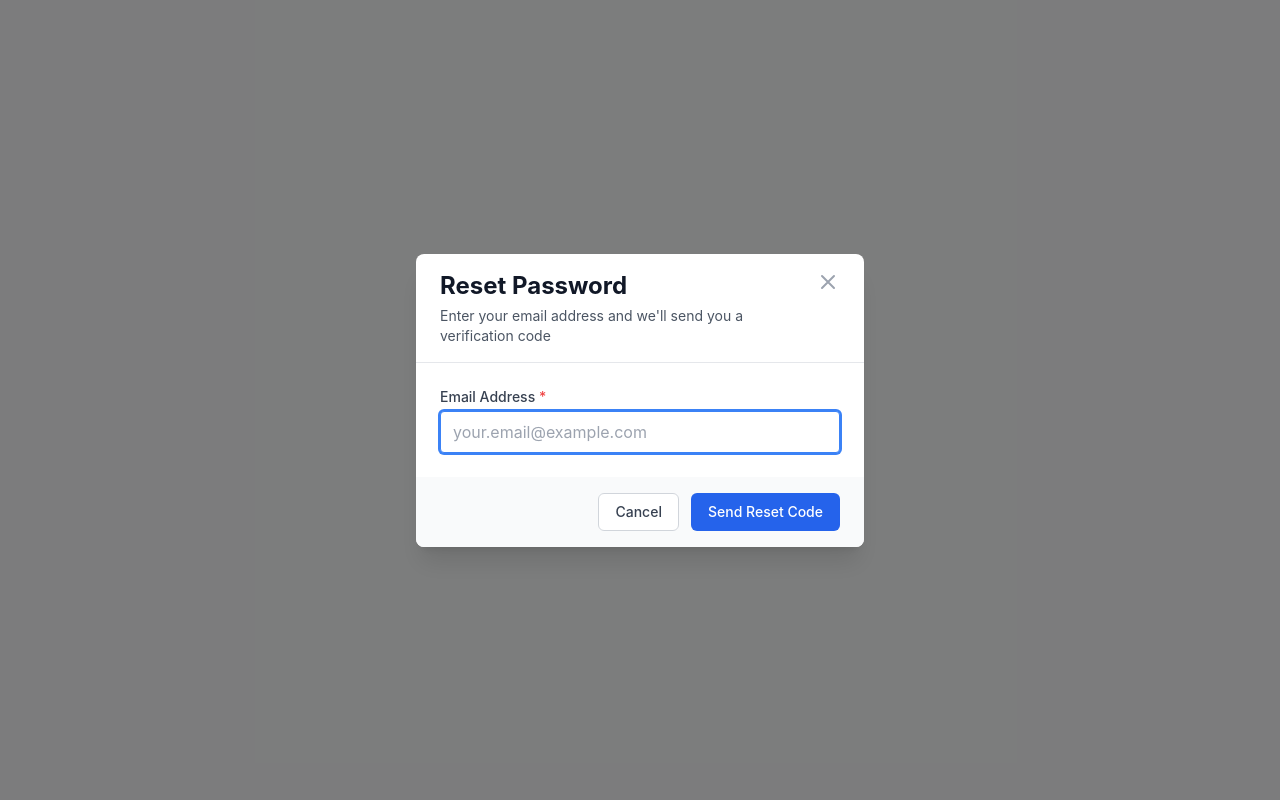
Authentication Error Messages › Password Reset Error Messages › should display specific error for too many reset attempts
// Fill in email field
Type "user@example.com" into the field labelled "Email Address *". click: (640, 432)
box: [440,410,840,452]
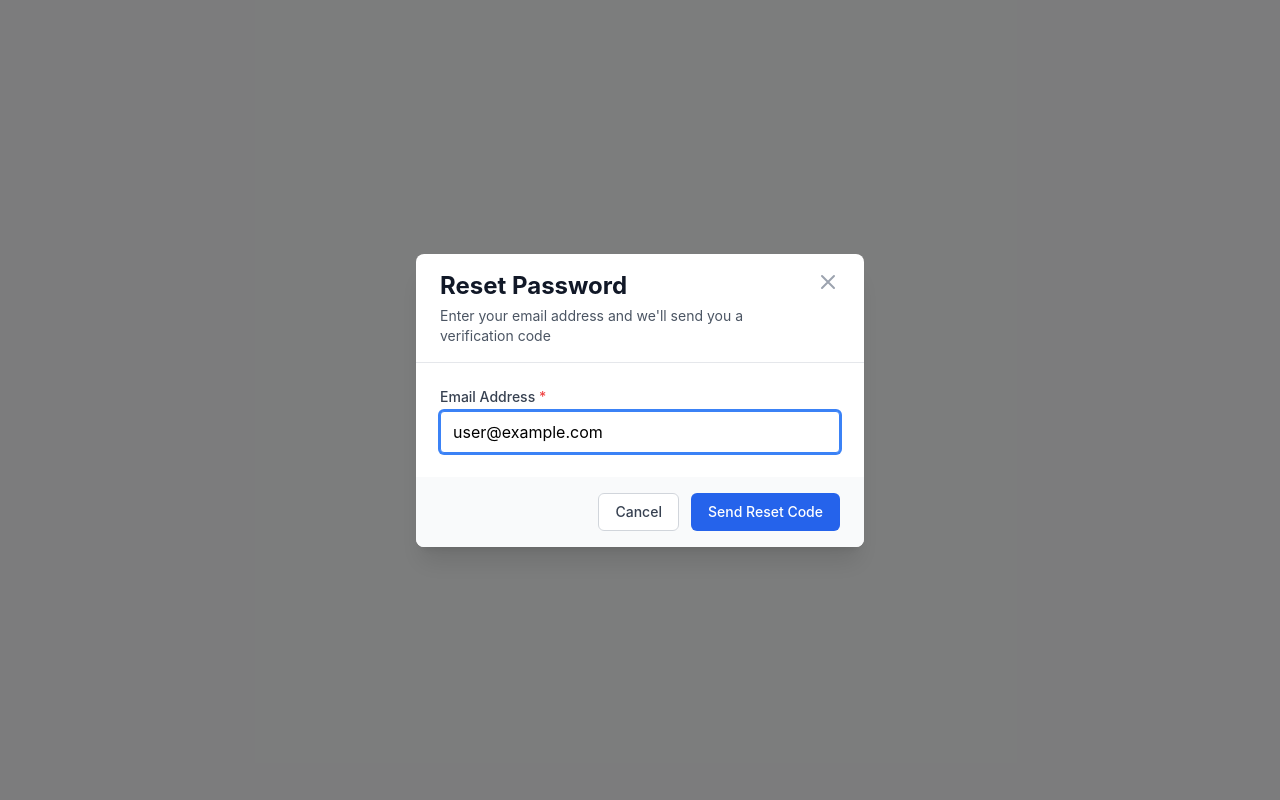
// Submit form
Click the button "Send Reset Code". click: (766, 512)
box: [691,492,840,530]
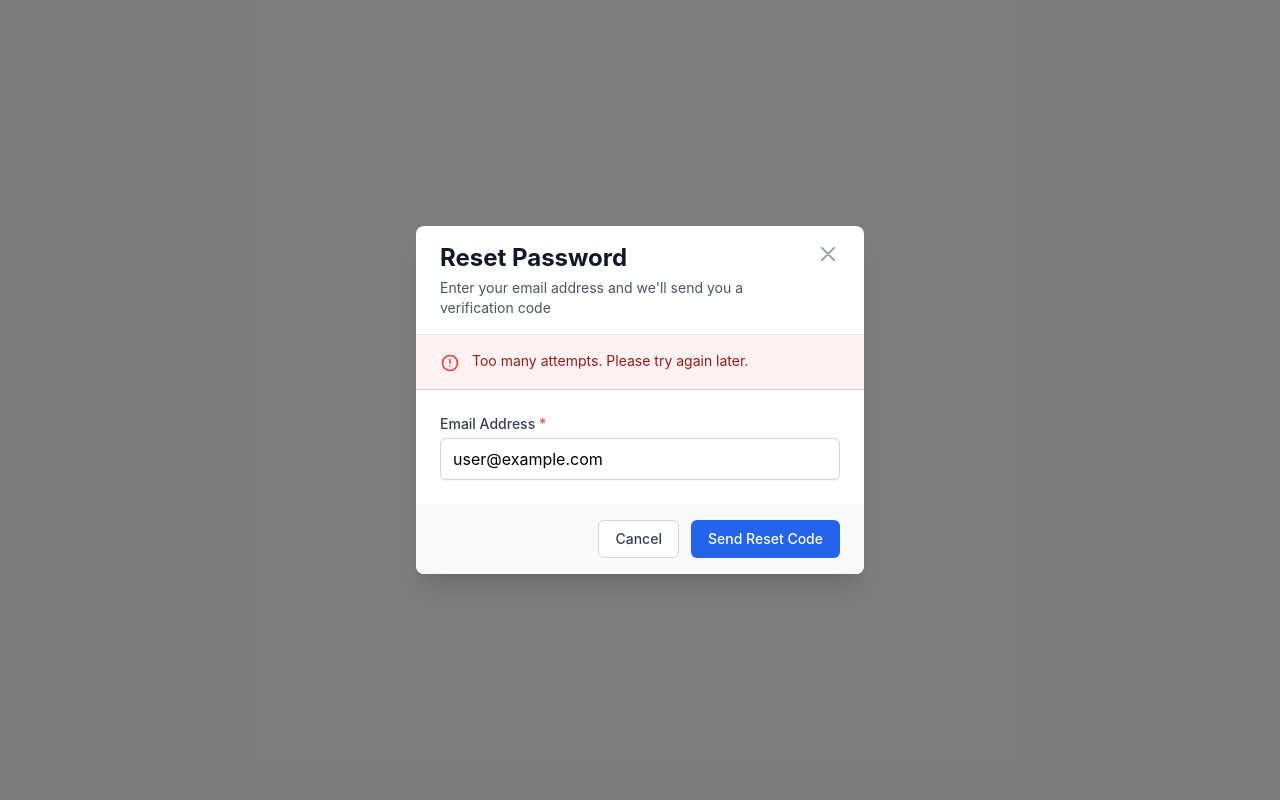
Check: the text "Too many attempts. Please try again later." is shown, box [472,351,748,371]
